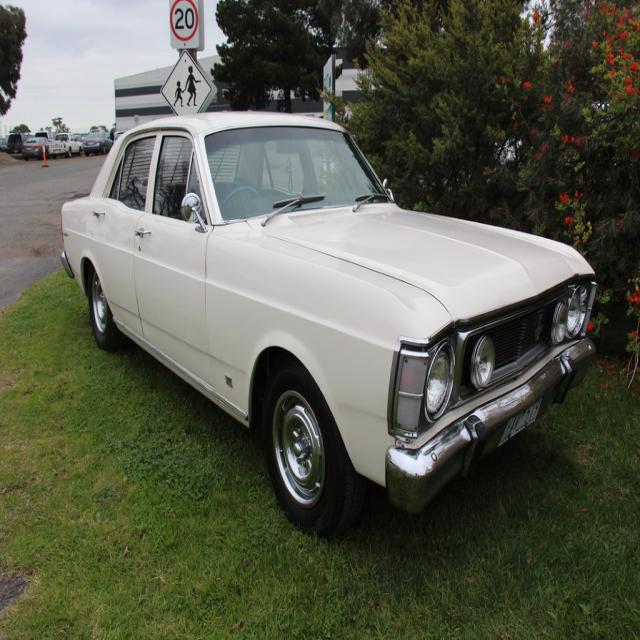car: (59, 107, 600, 537)
